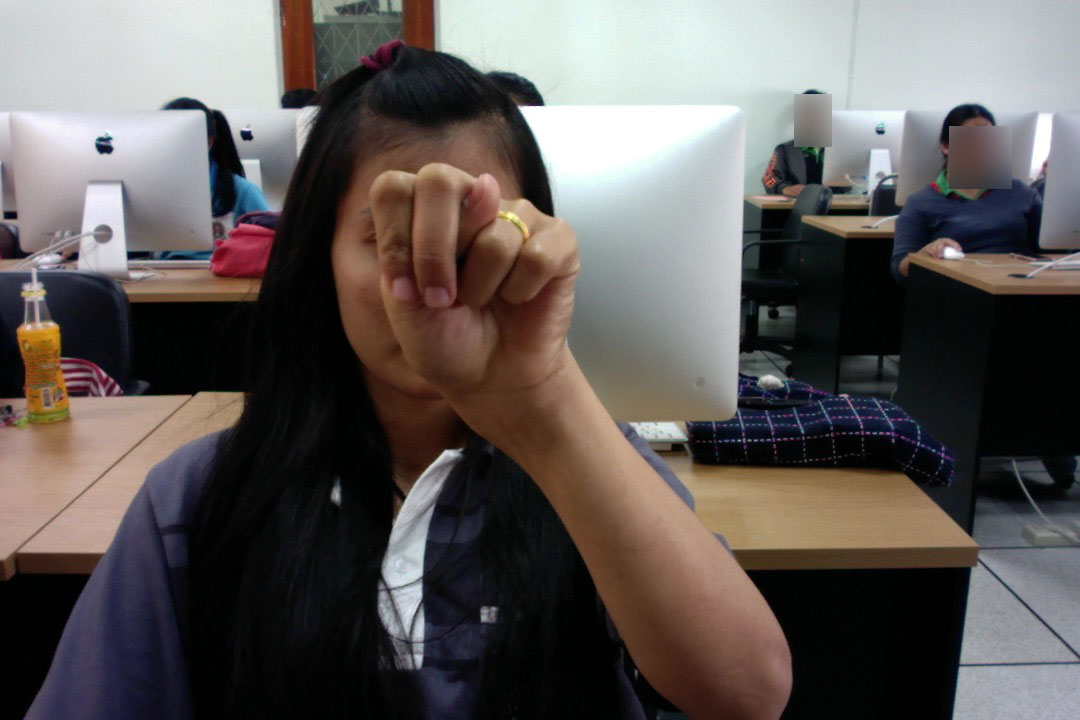nor: (363, 155, 588, 436)
